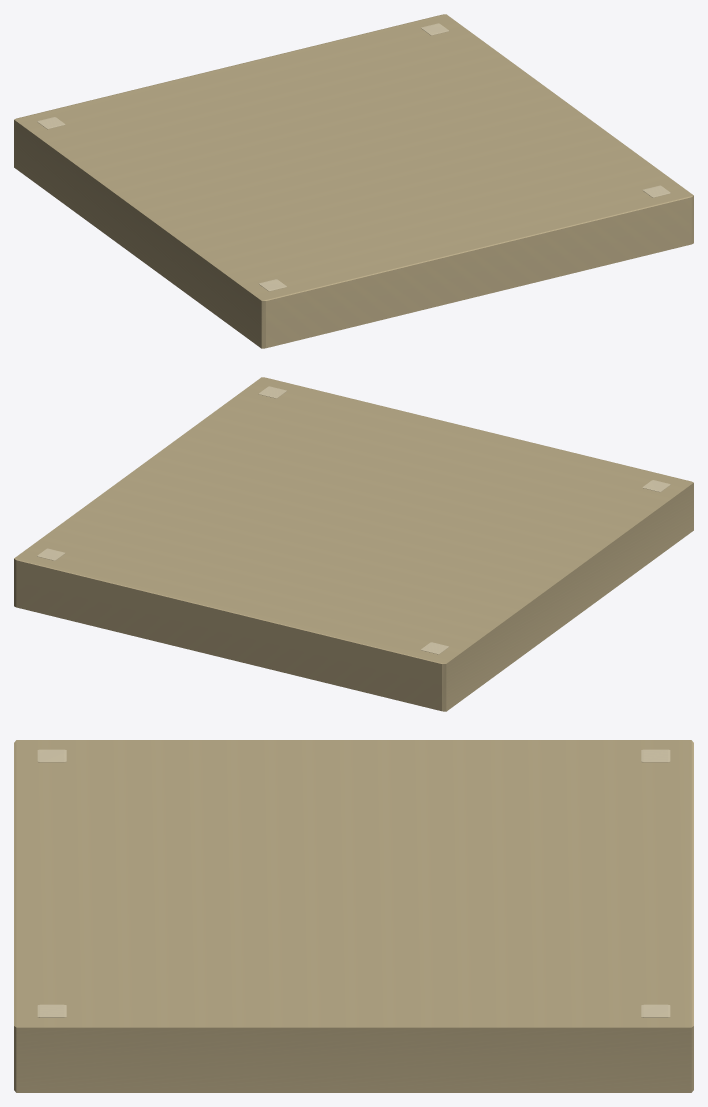
File: SM_WC_Tile.fbx
3 renders of one model, top to bottom at view 1: azimuth 30°, elevation 25°; view 2: azimuth 150°, elevation 25°; view 3: azimuth 270°, elevation 25°, orthographic. The views are drawn at different scales.
Visible parts, largest first — view 1: SM_WC_Tile; view 2: SM_WC_Tile; view 3: SM_WC_Tile.
Boxes of the visible parts, left/top/right/bottom form: SM_WC_Tile: left=14, top=14, right=693, bottom=348; SM_WC_Tile: left=14, top=377, right=693, bottom=711; SM_WC_Tile: left=14, top=740, right=693, bottom=1092.
Bounding box in the file's own units: 1.98 × 1.98 × 0.2115.
